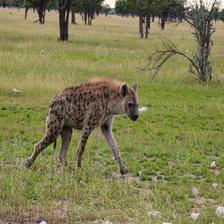hyena: (25, 79, 151, 176)
